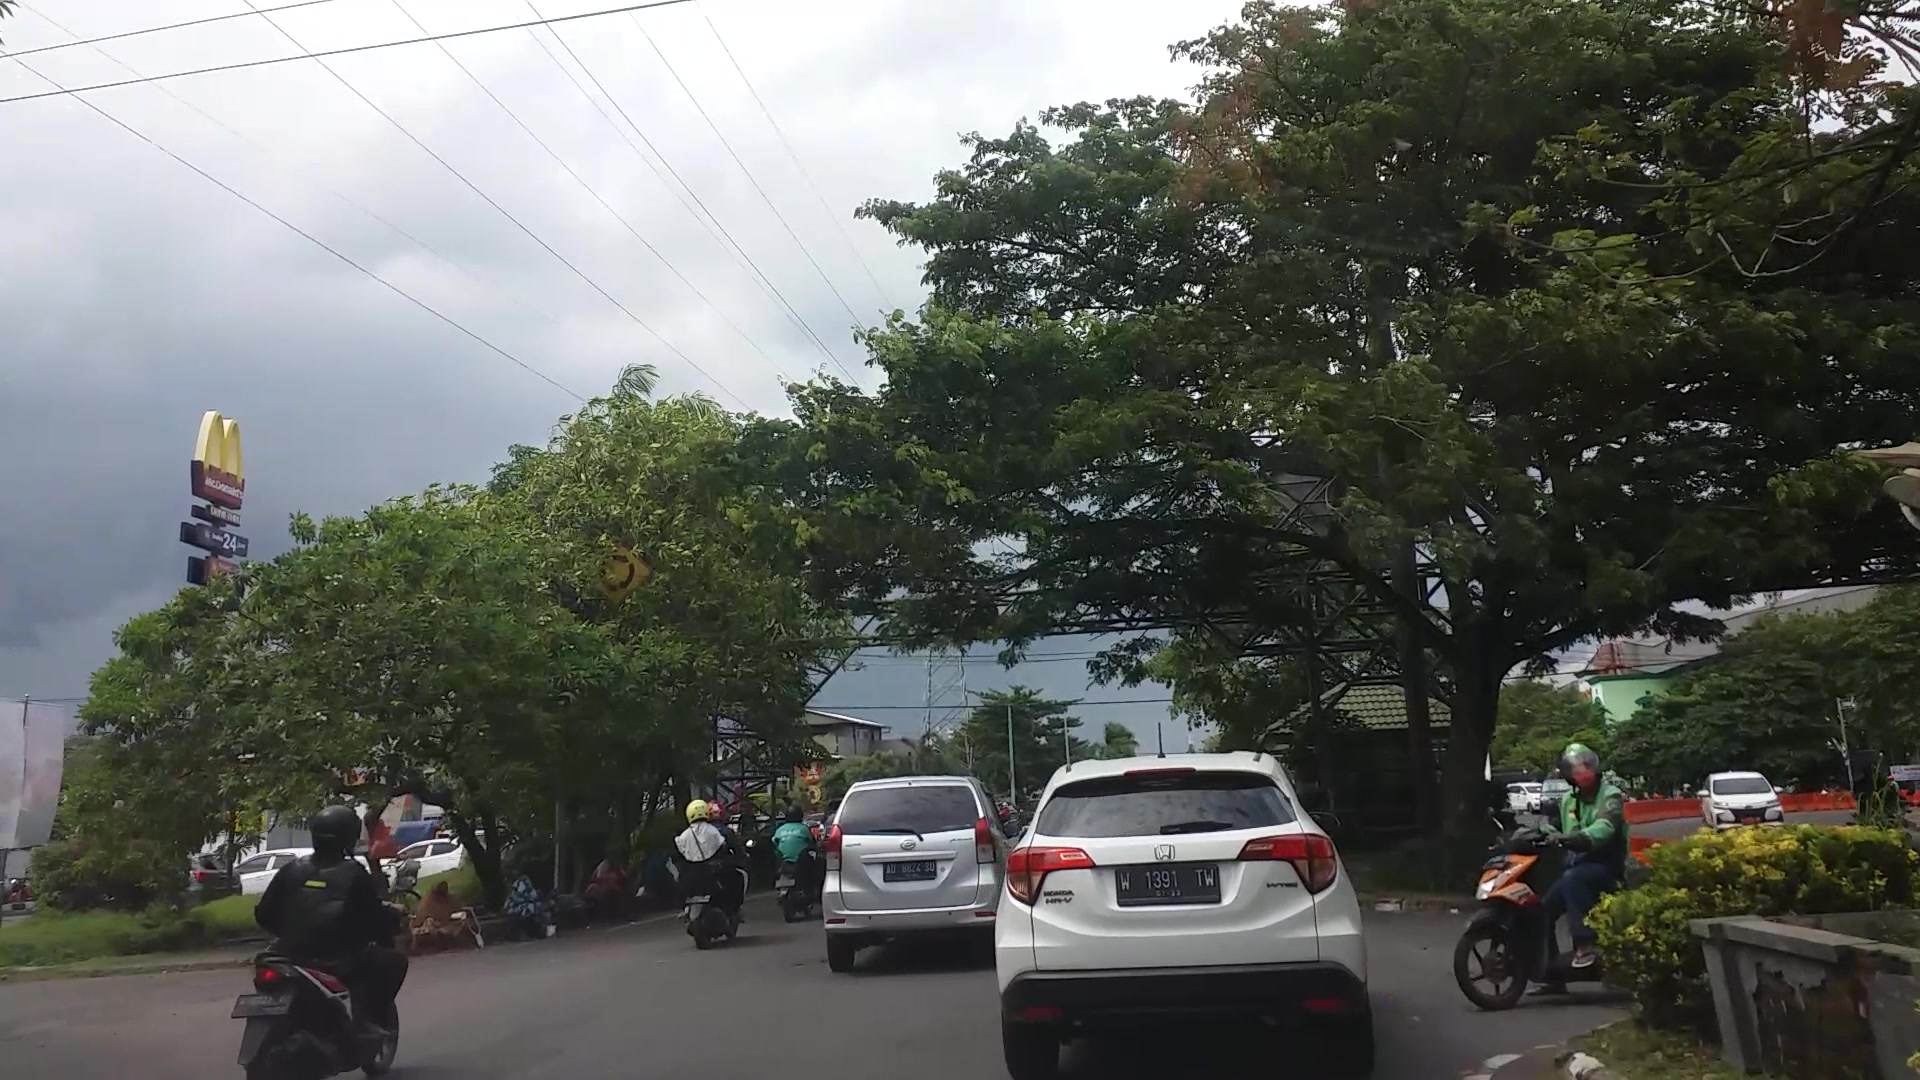plate_positive: (1117, 866, 1220, 906)
